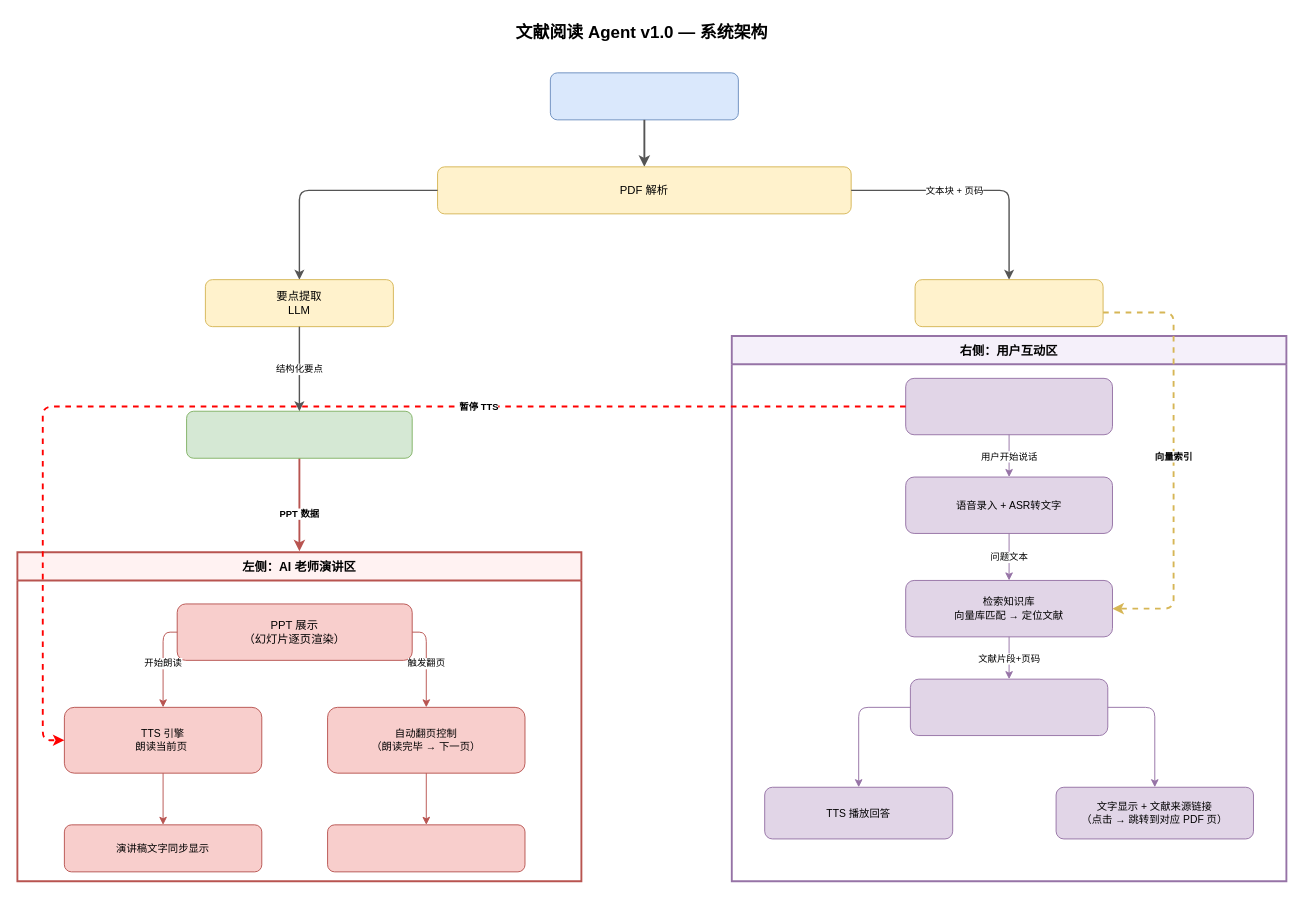
The diagram is 1303 pixels wide and 898 high, and some of its shapes have lost their labels. Each missing label, with the centre of its shape:
"LLM 生成回答 （Claude + 文献片段上下文）" belongs at pixel 1008 707.
"存入知识库" belongs at pixel 1008 303.
"打断按钮 （用户按下 → 暂停左侧 TTS）" belongs at pixel 1008 406.
"生成 PPT 每页内容 + speaker notes（演讲稿）" belongs at pixel 299 434.
"用户上传 PDF 文献" belongs at pixel 643 96.
"进度条 / 页码指示" belongs at pixel 426 848.
